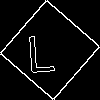L: (25, 25, 56, 73)
